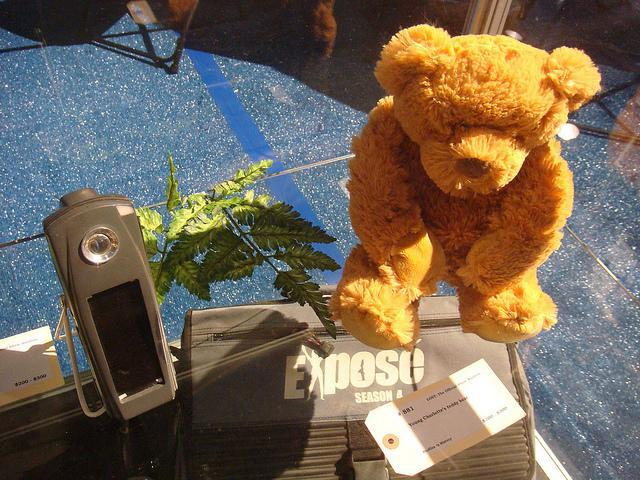phone: (47, 173, 189, 431)
